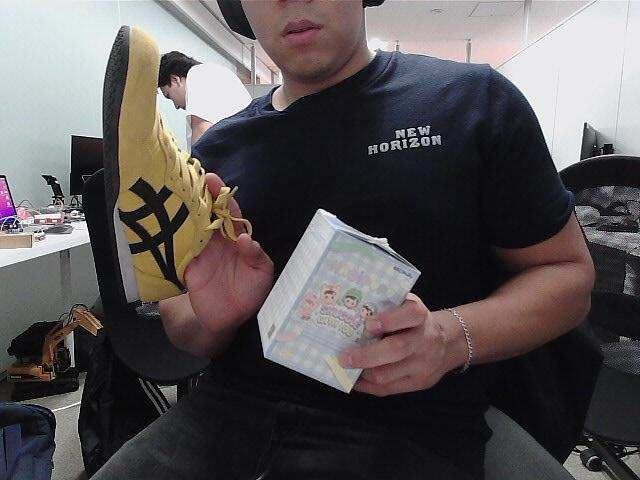Blind_box: (257, 207, 424, 403)
Shoes: (99, 19, 249, 314)
